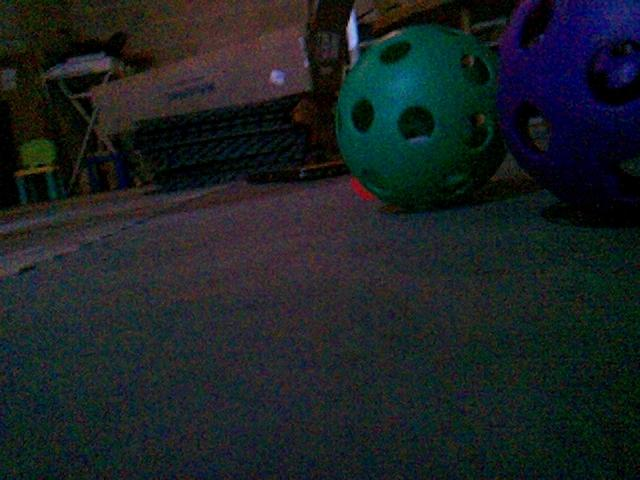Green: (334, 23, 506, 209)
Purple: (493, 0, 640, 220)
